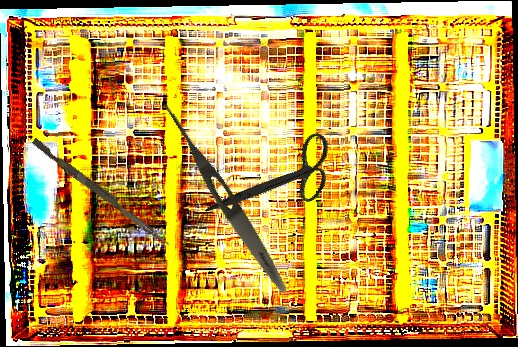Dressing Forceps: (153, 97, 294, 297)
Iris Scissors: (204, 104, 348, 259)
Pusher: (29, 137, 174, 248)
